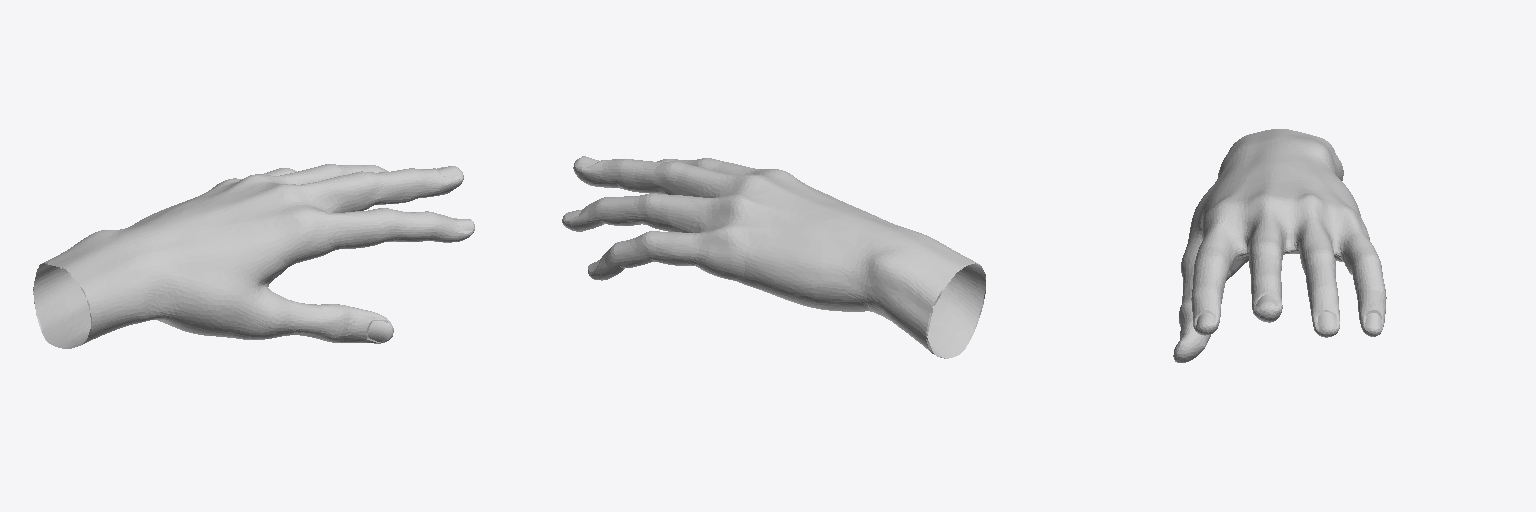
File: handClean1.obj
3 renders of one model, left to right at view 1: azimuth 30°, elevation 25°; view 2: azimuth 150°, elevation 25°; view 3: azimuth 270°, elevation 25°, orthographic.
Visible parts, largest first — view 1: hand; view 2: hand; view 3: hand.
Part boxes in pixels (x1,y1,x2,y2): hand: (33, 164, 474, 348); hand: (562, 156, 985, 358); hand: (1173, 129, 1386, 362).
Size of the model in its own units: 24.02 by 8.04 by 11.13.